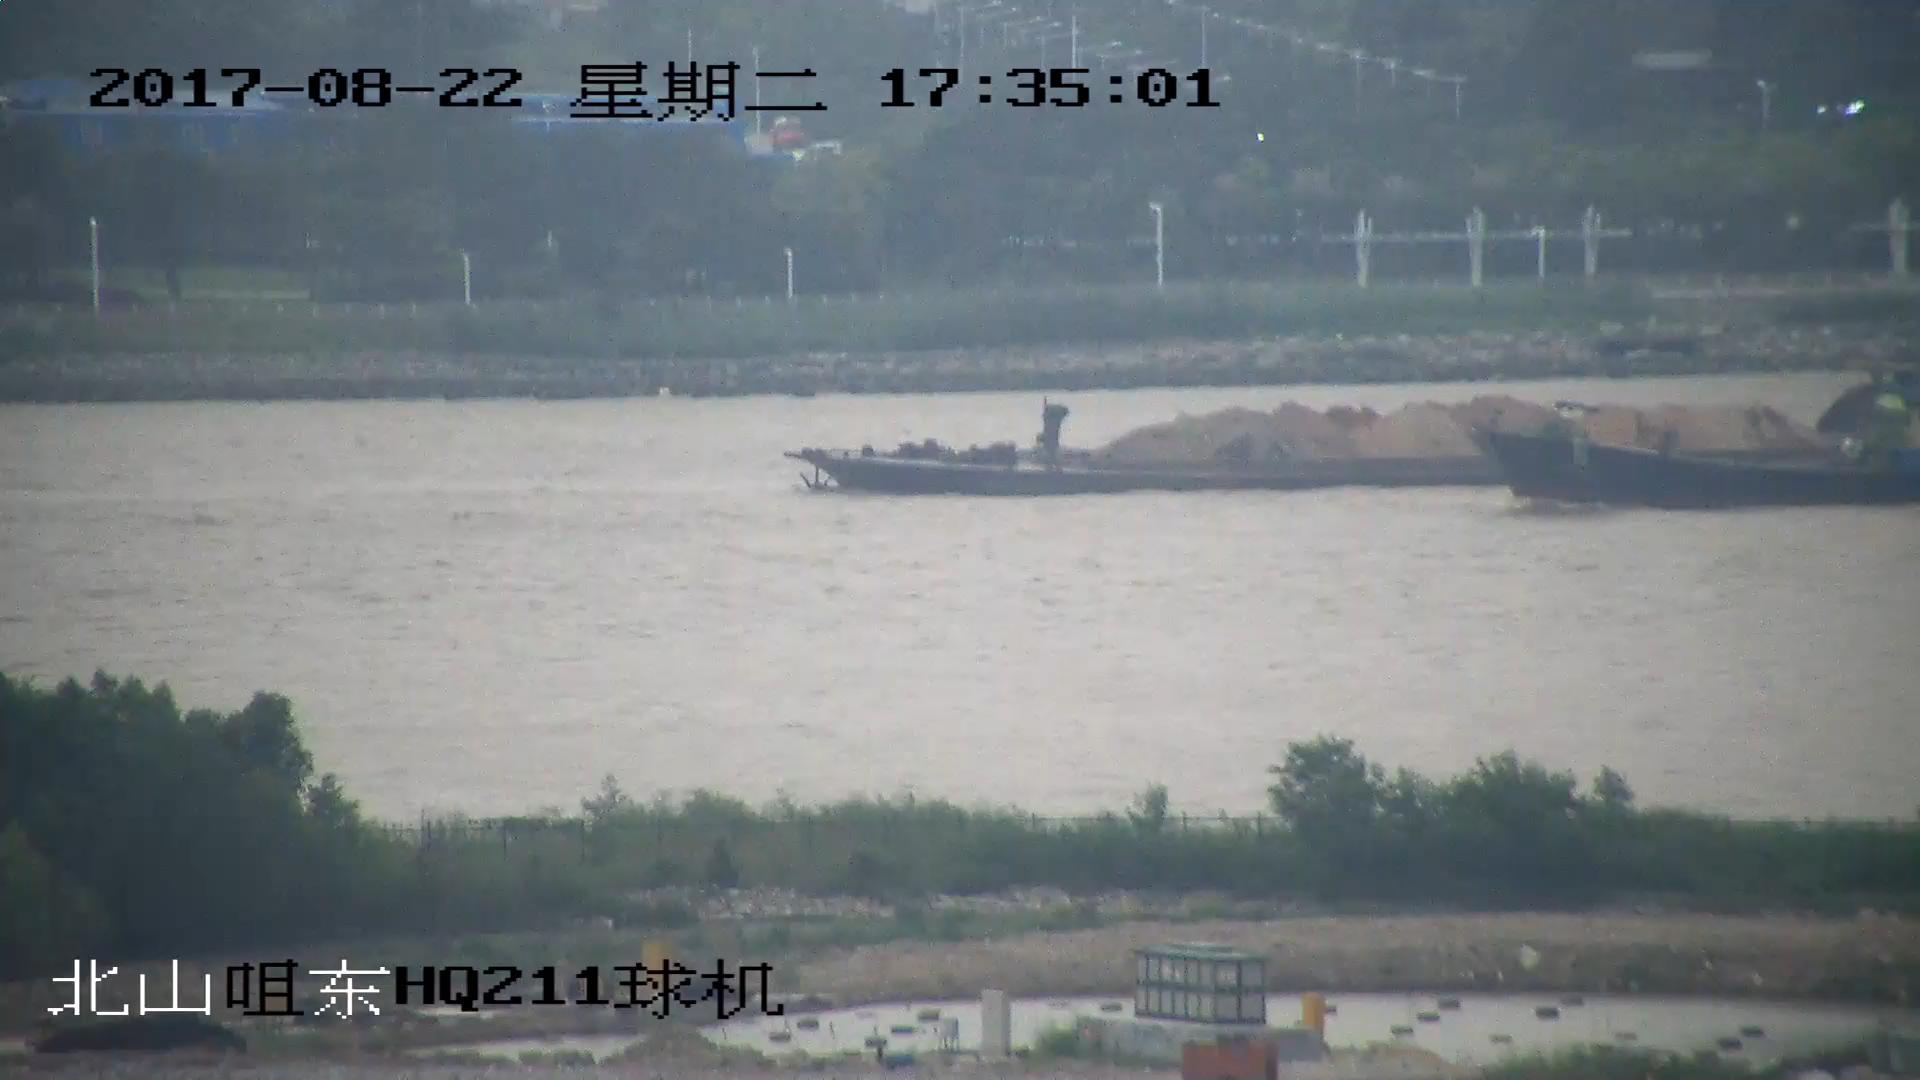Ship: (790, 396, 1920, 491), (1477, 406, 1920, 518)
